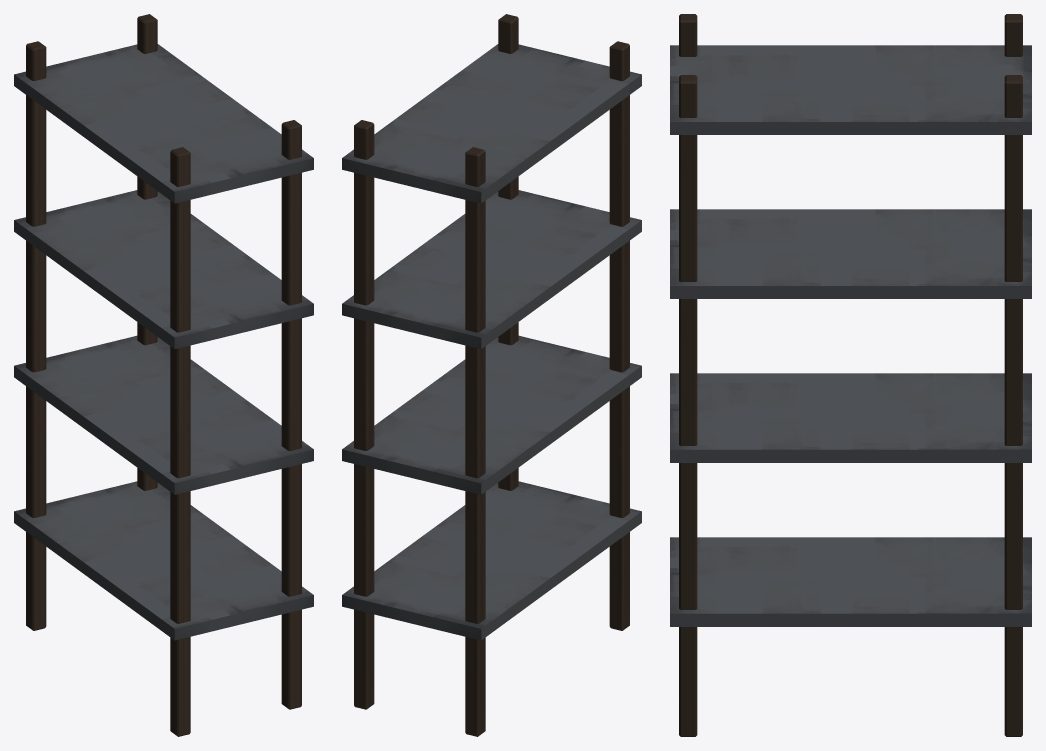
File: Kast.fbx
3 renders of one model, left to right at view 1: azimuth 30°, elevation 25°; view 2: azimuth 150°, elevation 25°; view 3: azimuth 270°, elevation 25°, orthographic. The views are drawn at different scales.
Parts seen in each view (by area): view 1: Kast; view 2: Kast; view 3: Kast.
Boxes of the visible parts, x1=… form: Kast: x1=14, y1=14, x2=313, y2=736; Kast: x1=342, y1=14, x2=641, y2=736; Kast: x1=670, y1=14, x2=1031, y2=736.
Size of the model in its own units: 50 by 200 by 100.
Materials: 1 (1 with a texture image).
